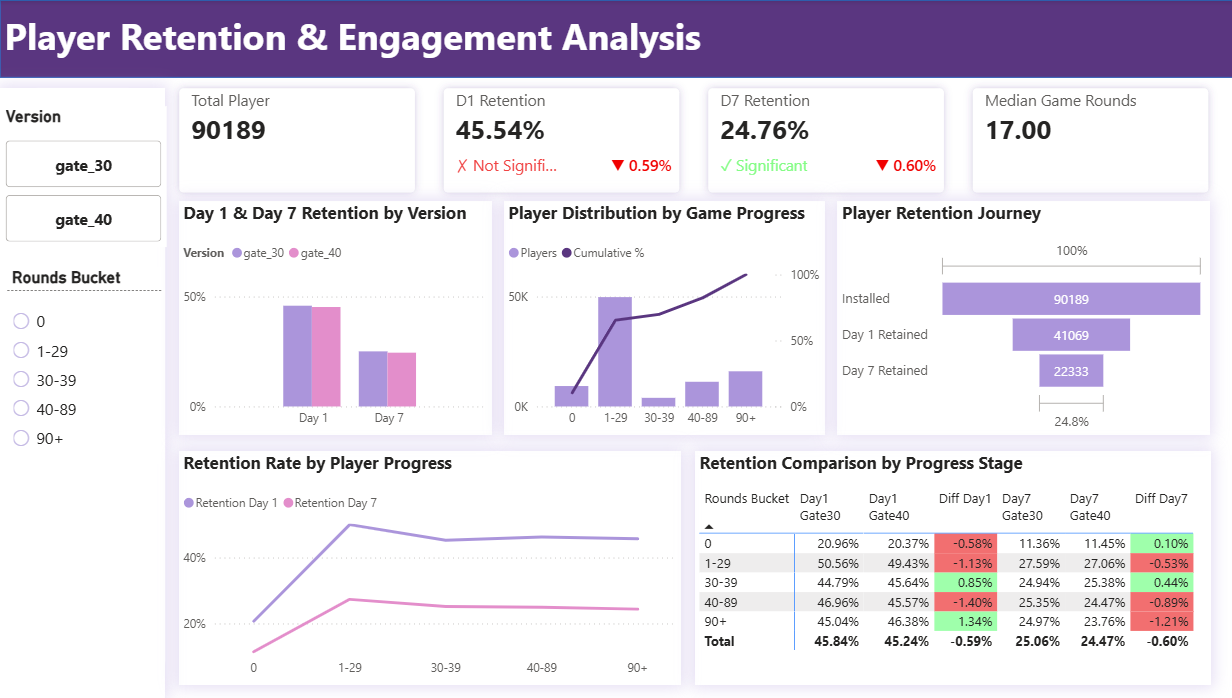

This screenshot's page, from the dashboard's own definition file:
{"tool":"powerbi","page":{"name":"Page 1","canvas":[1280,720],"ordinal":0},"visuals":[{"type":"shape","box":[9.6,0,1270.7,80],"z":0},{"type":"shape","box":[9.2,90.6,170.7,629],"z":1000},{"type":"textbox","box":[9.2,6.6,1271.1,65.7],"z":2000},{"type":"cardVisual","fields":{"Data":["CountNonNull(gaming_data.userid)","gaming_data.M_Retention Day 1","gaming_data.M_Retention Day 7","Median(gaming_data.sum_gamerounds)"]},"box":[165.9,63.5,1114.4,159.4],"z":3000},{"type":"clusteredColumnChart","title":"Day 1 & Day 7 Retention by Version","fields":{"Category":["Retention Metric.Metric"],"Y":["Retention Metric.Retention Rate"],"Series":["gaming_data.version"]},"box":[193.1,207.3,322.7,241],"z":4000},{"type":"advancedSlicerVisual","fields":{"Values":["gaming_data.version"]},"box":[10.1,109.6,170.1,144.9],"z":5000},{"type":"pivotTable","title":"Retention Comparison by Progress Stage","fields":{"Rows":["gaming_data.Rounds Bucket"],"Values":["gaming_data.Day1 Gate30","gaming_data.Day1 Gate40","gaming_data.Diff Day1","gaming_data.Day7 Gate30","gaming_data.Day7 Gate40","gaming_data.Diff Day7"]},"box":[723.1,463.9,531.3,241],"z":6000},{"type":"lineChart","title":"Retention Rate by Player Progress","fields":{"Category":["gaming_data.Rounds Bucket"],"Y":["gaming_data.M_Retention Day 1","gaming_data.M_Retention Day 7"]},"box":[193.1,463.9,517,241],"z":7000},{"type":"lineClusteredColumnComboChart","title":"Player Distribution by Game Progress","fields":{"Category":["gaming_data.Rounds Bucket"],"Y":["gaming_data.Players"],"Y2":["gaming_data.Cumulative %"]},"box":[527.4,207.3,330.4,241],"z":8000},{"type":"listSlicer","fields":{"Values":["gaming_data.Rounds Bucket"]},"box":[16.4,274.7,158.8,201.6],"z":9000},{"type":"funnel","title":"Player Retention Journey","fields":{"Y":["gaming_data.Players","Sum(gaming_data.retention_1)","Sum(gaming_data.retention_7)"]},"box":[870.8,207.3,383.6,241],"z":11000}]}

Visuals, with their boxes in screenshot pixels (x1, y1, x2, y2), scaled from the page's 1280x720 canvas onto the 1232x698 screenshot:
shape: rect(9, 0, 1231, 78)
shape: rect(9, 88, 173, 697)
textbox: rect(9, 6, 1231, 70)
cardVisual - CountNonNull(gaming_data.userid) x gaming_data.M_Retention Day 1: rect(160, 62, 1231, 216)
"Day 1 & Day 7 Retention by Version" clusteredColumnChart: rect(186, 201, 496, 435)
advancedSlicerVisual - gaming_data.version: rect(10, 106, 173, 247)
"Retention Comparison by Progress Stage" pivotTable: rect(696, 450, 1207, 683)
"Retention Rate by Player Progress" lineChart: rect(186, 450, 683, 683)
"Player Distribution by Game Progress" lineClusteredColumnComboChart: rect(508, 201, 826, 435)
listSlicer - gaming_data.Rounds Bucket: rect(16, 266, 169, 462)
"Player Retention Journey" funnel: rect(838, 201, 1207, 435)
